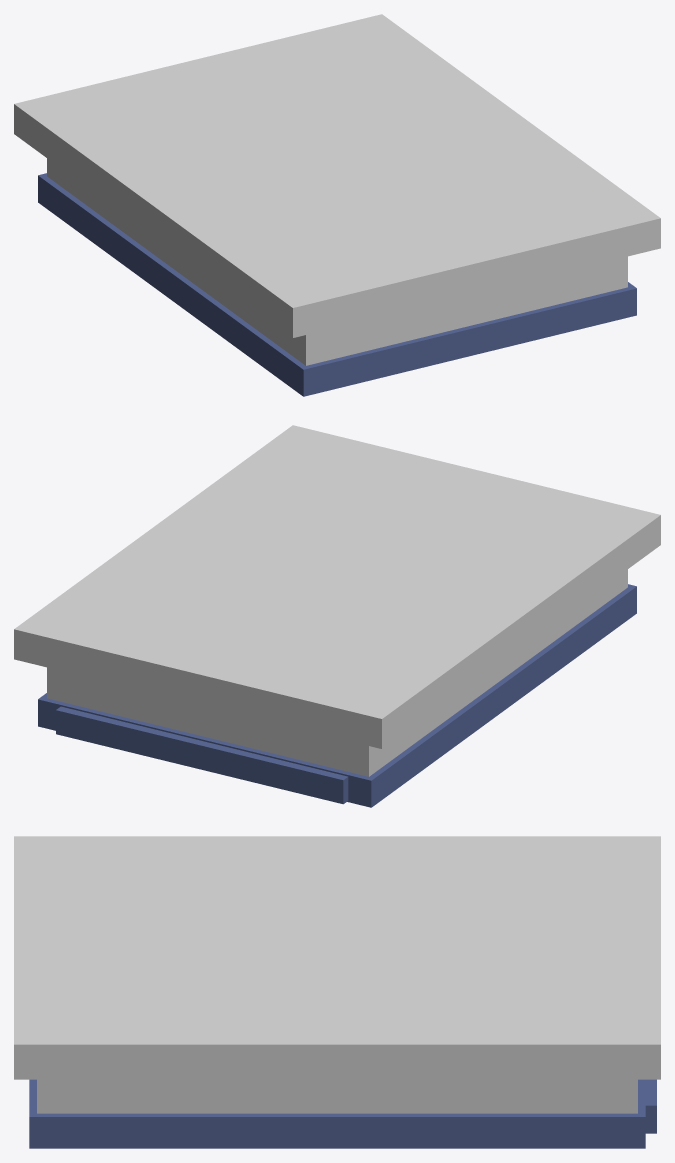
The model's file is bone_marinheiro.glb.
The picture shows the model from 3 angles, top to bottom: view 1: azimuth 30°, elevation 25°; view 2: azimuth 150°, elevation 25°; view 3: azimuth 270°, elevation 25°; orthographic projection. The views are drawn at different scales.
Parts seen in each view (by area): view 1: bone_marinheiro; view 2: bone_marinheiro; view 3: bone_marinheiro.
Boxes of the visible parts, box(x1,y1,x2,y2) form: bone_marinheiro: box(14, 14, 660, 396); bone_marinheiro: box(14, 425, 660, 807); bone_marinheiro: box(14, 836, 660, 1148).
Size of the model in its own units: 0.64 by 0.1625 by 0.84.
